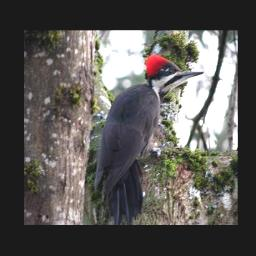Woodpecker: (88, 52, 206, 220)
